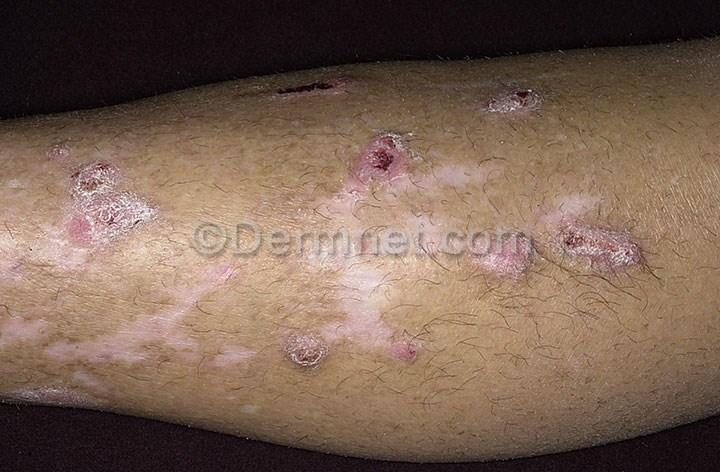Eczema: (218, 272, 479, 423), (59, 272, 210, 409), (17, 119, 149, 259), (293, 113, 433, 233), (544, 201, 668, 324), (461, 61, 579, 160)
